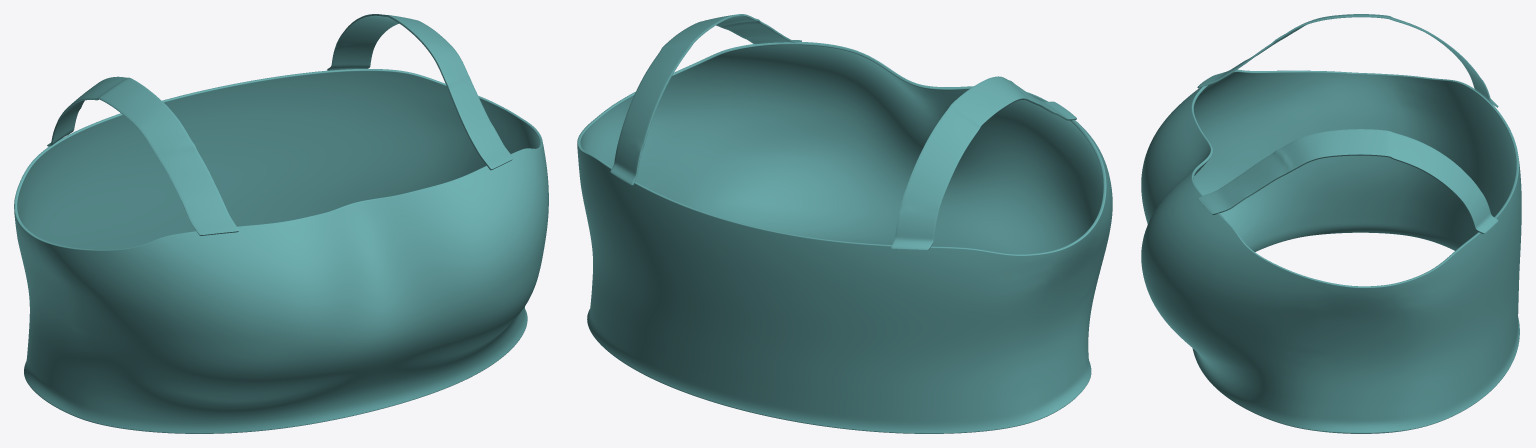
The model's file is Feminine-tank-top.glb.
The picture shows the model from 3 angles, left to right: view 1: azimuth 30°, elevation 25°; view 2: azimuth 150°, elevation 25°; view 3: azimuth 270°, elevation 25°; orthographic projection. The views are drawn at different scales.
Parts seen in each view (by area): view 1: Clothing / tank body, Clothing / Tank sewn strap201 -1, Clothing / Tank sewn strap201 1; view 2: Clothing / tank body, Clothing / Tank sewn strap201 -1, Clothing / Tank sewn strap201 1; view 3: Clothing / tank body, Clothing / Tank sewn strap201 1, Clothing / Tank sewn strap201 -1.
Part boxes in pixels (left/top/right/bottom): Clothing / tank body: left=14, top=69, right=548, bottom=433; Clothing / Tank sewn strap201 -1: left=47, top=76, right=238, bottom=235; Clothing / Tank sewn strap201 1: left=327, top=14, right=513, bottom=170; Clothing / tank body: left=577, top=41, right=1112, bottom=433; Clothing / Tank sewn strap201 -1: left=891, top=76, right=1076, bottom=249; Clothing / Tank sewn strap201 1: left=610, top=14, right=801, bottom=185; Clothing / tank body: left=1141, top=69, right=1521, bottom=433; Clothing / Tank sewn strap201 1: left=1197, top=129, right=1498, bottom=233; Clothing / Tank sewn strap201 -1: left=1197, top=14, right=1498, bottom=107.
Bounding box in the file's own units: 0.6122 × 0.3468 × 0.4583.
